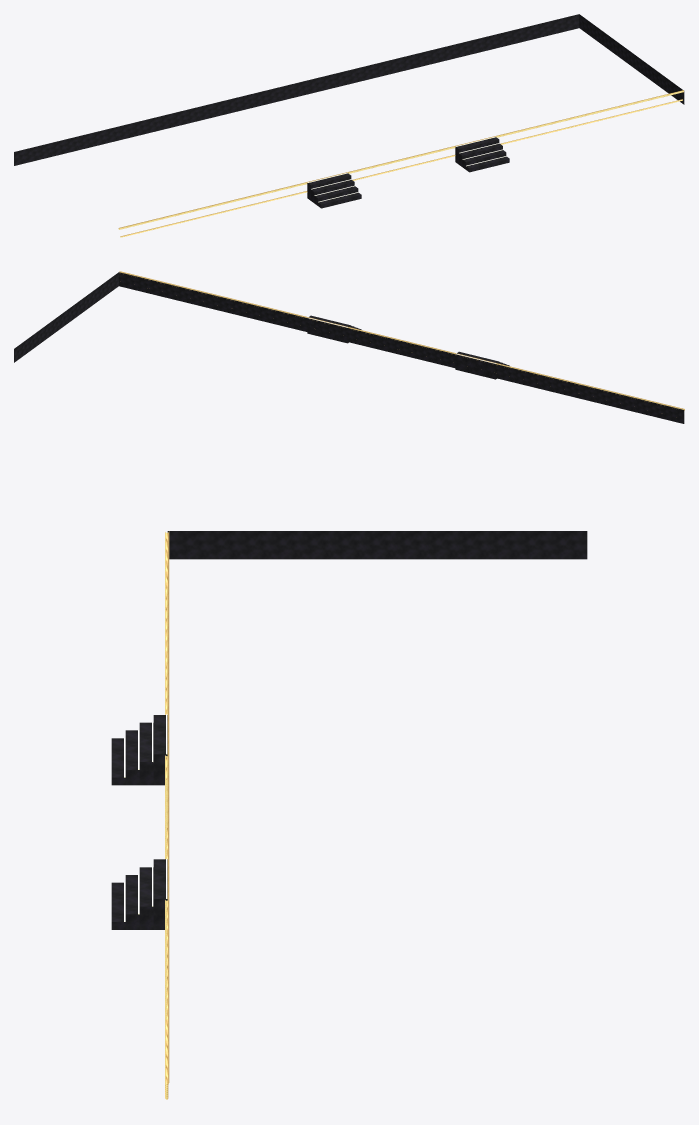
File: mw_stage.glb
3 renders of one model, top to bottom at view 1: azimuth 30°, elevation 25°; view 2: azimuth 150°, elevation 25°; view 3: azimuth 270°, elevation 25°, orthographic. The views are drawn at different scales.
Parts seen in each view (by area): view 1: stage; view 2: stage; view 3: stage.
Part boxes in pixels (bbox=[...]): stage: bbox=[14, 14, 684, 237]; stage: bbox=[14, 271, 684, 423]; stage: bbox=[111, 531, 587, 1099].
Size of the model in its own units: 42 by 1.17 by 15.3.
5 materials, 4 textured.
